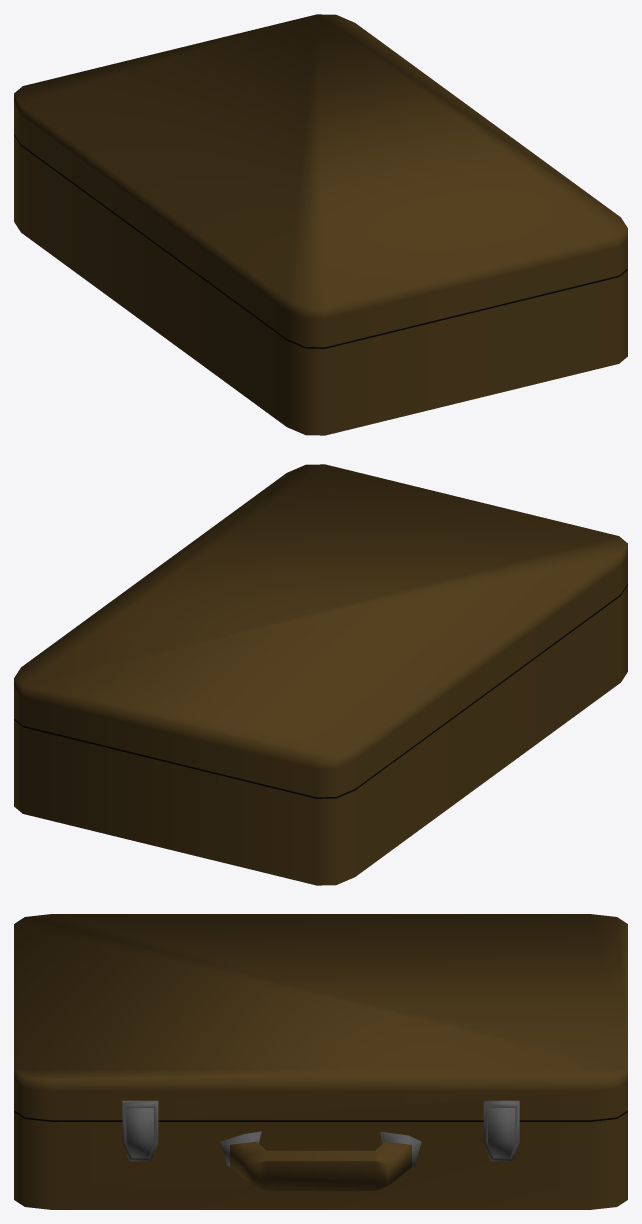
File: SM_Valise.fbx
The picture shows the model from 3 angles, top to bottom: view 1: azimuth 30°, elevation 25°; view 2: azimuth 150°, elevation 25°; view 3: azimuth 270°, elevation 25°; orthographic projection.
Visible parts, largest first — view 1: Valise; view 2: Valise; view 3: Valise.
Boxes of the visible parts, x1,y1,x2,y2 form: Valise: (14, 14, 627, 435); Valise: (14, 464, 627, 885); Valise: (14, 914, 627, 1209).
Size of the model in its own units: 619 by 200 by 855.
